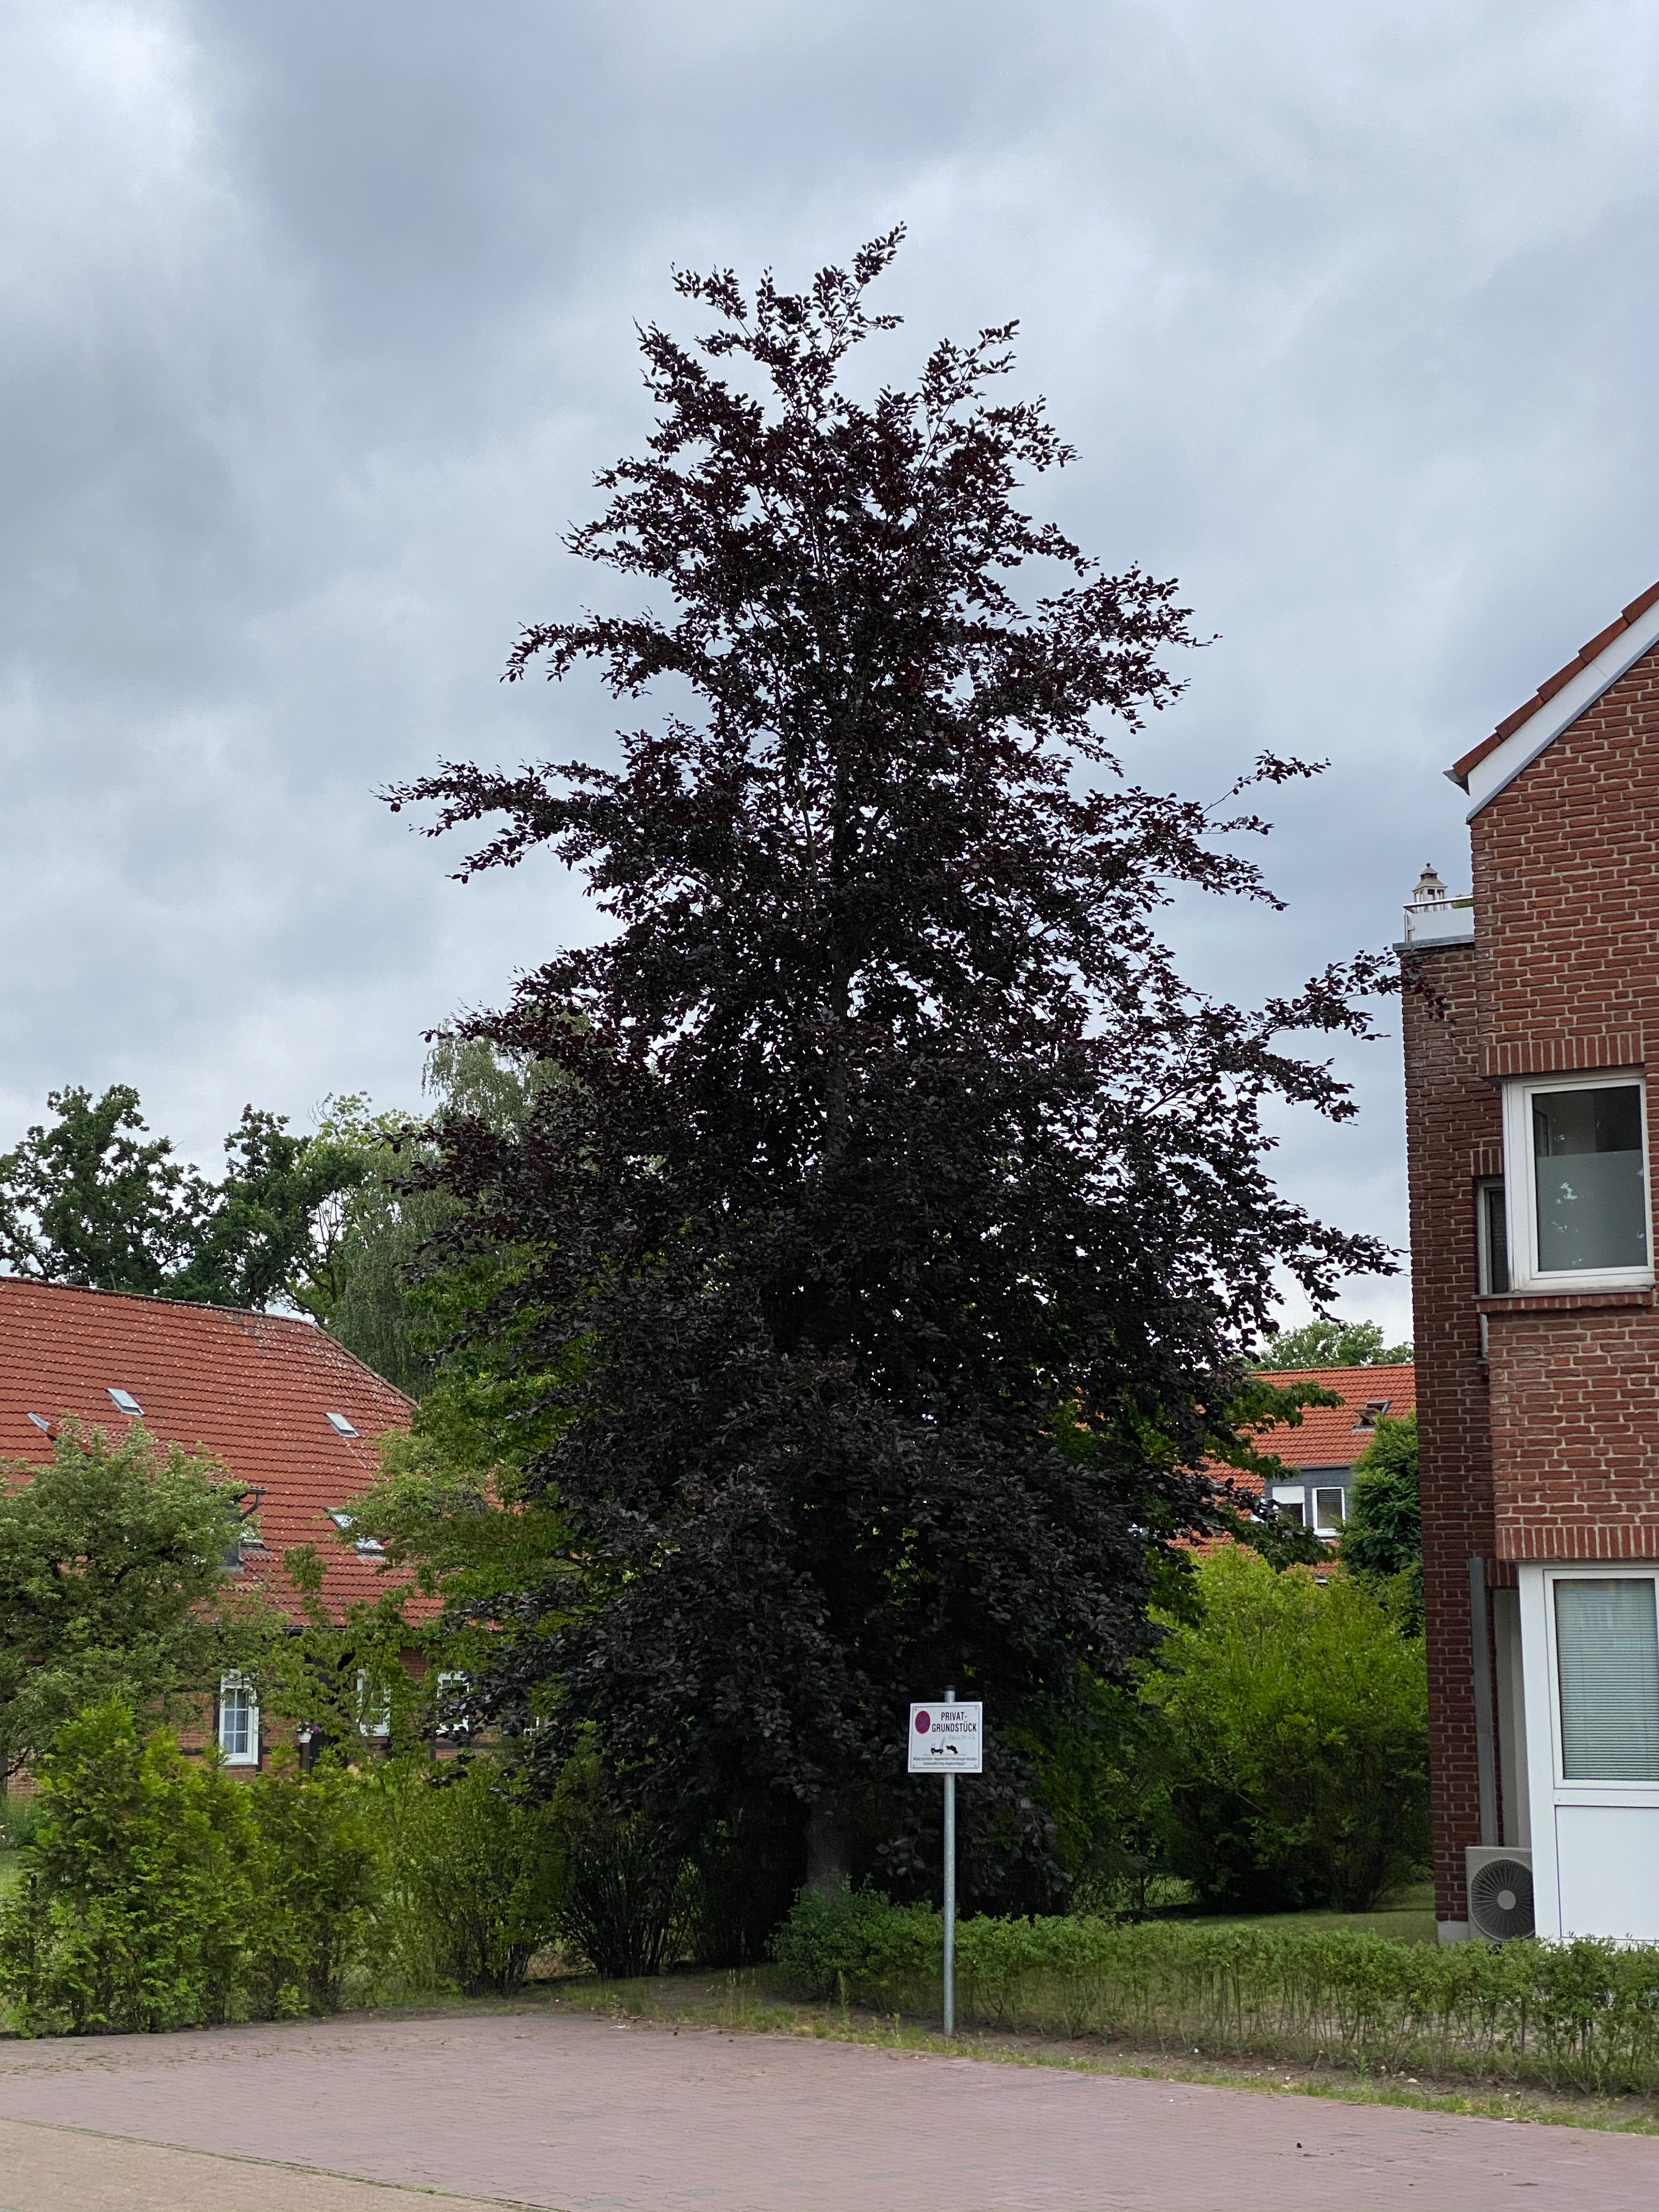tree: (368, 218, 1459, 1893), (295, 996, 598, 1406), (0, 1409, 295, 1782), (0, 1083, 371, 1313), (1335, 1409, 1425, 1637), (1232, 1317, 1415, 1371)
